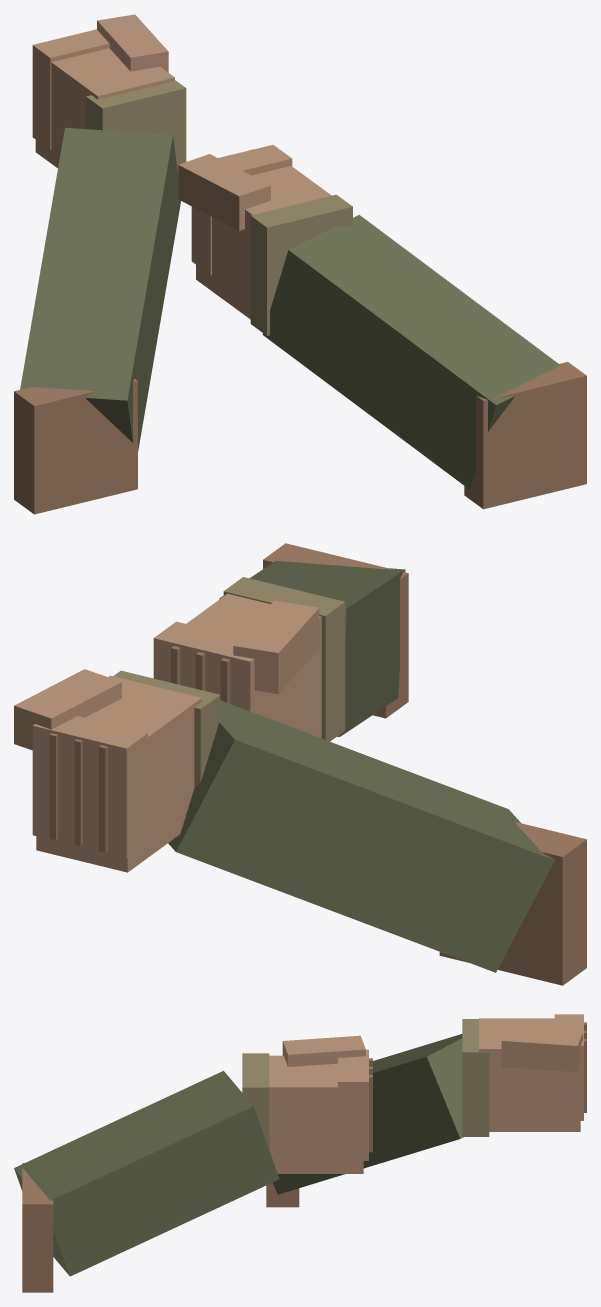
Rendered from hands-terrorist.glb.
3 views of the same model, one above another, from view 1: azimuth 30°, elevation 25°; view 2: azimuth 150°, elevation 25°; view 3: azimuth 270°, elevation 25° (orthographic). The views are drawn at different scales.
Visible parts, largest first — view 1: forearmRight, forearmLeft, handRight, handLeft; view 2: forearmLeft, handLeft, handRight, forearmRight; view 3: forearmRight, handRight, handLeft, forearmLeft.
Boxes of the visible parts, x1,y1,x2,y2 form: forearmRight: (262, 215, 586, 509); forearmLeft: (14, 127, 180, 514); handRight: (178, 145, 352, 335); handLeft: (32, 14, 186, 173); forearmLeft: (168, 700, 586, 985); handLeft: (14, 669, 220, 872); handRight: (153, 577, 345, 741); forearmRight: (219, 543, 408, 736); forearmRight: (14, 1071, 279, 1292); handRight: (242, 1035, 372, 1173); handLeft: (462, 1014, 586, 1136); forearmLeft: (266, 1034, 463, 1207).
Bounding box in the file's own units: 0.366 × 0.251 × 0.552.
